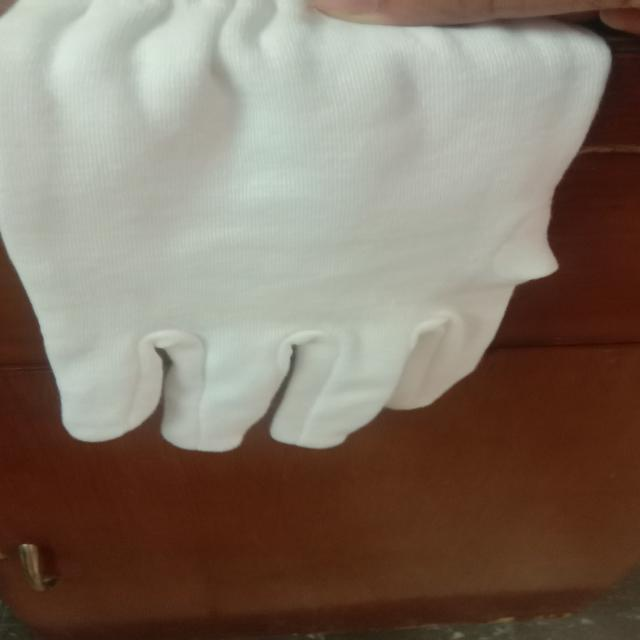gloved_hand: (1, 1, 620, 454)
